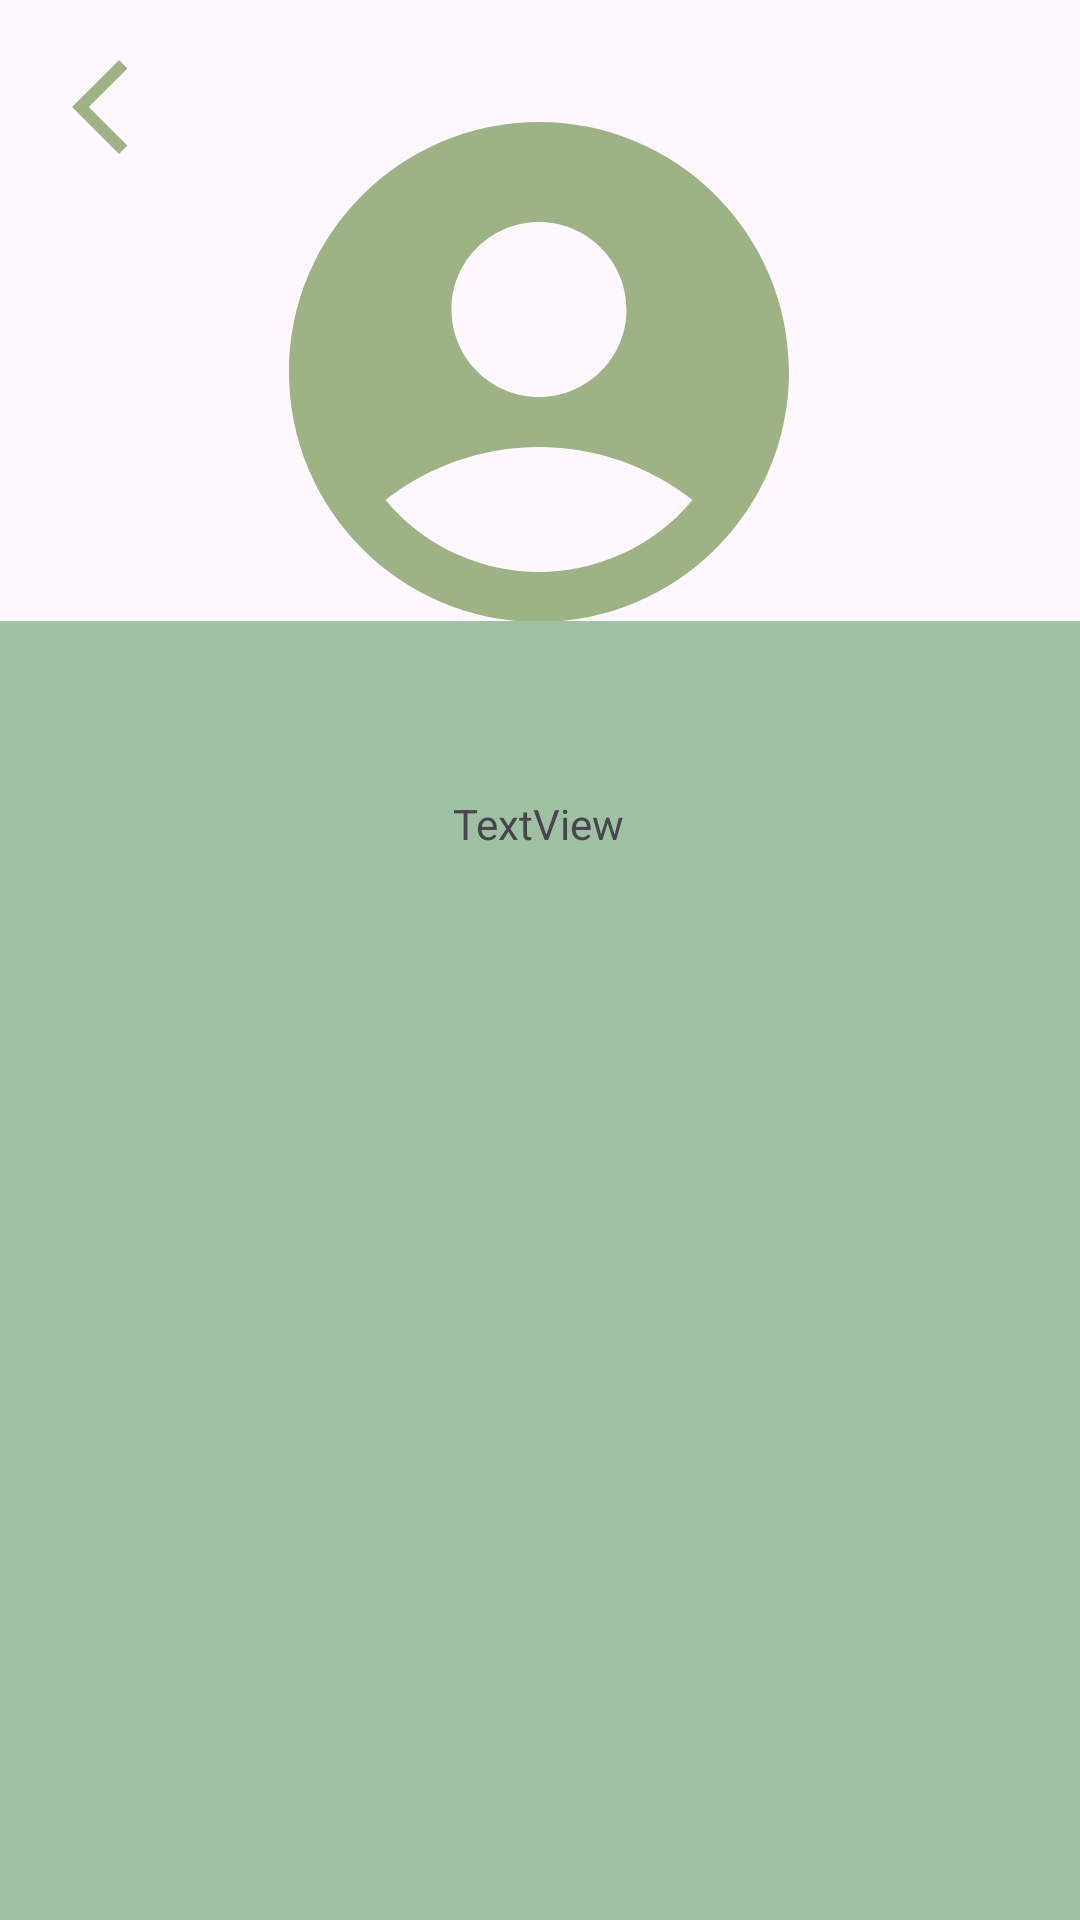

Icon click points for this 1080 × 1920 phone screenshot, format [x,y]:
arrow viewprof: [99,107]
